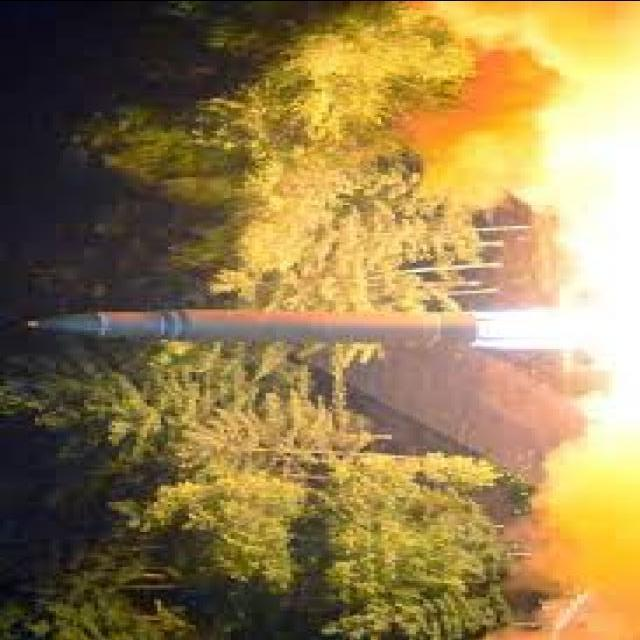Missile: (0, 301, 481, 350)
